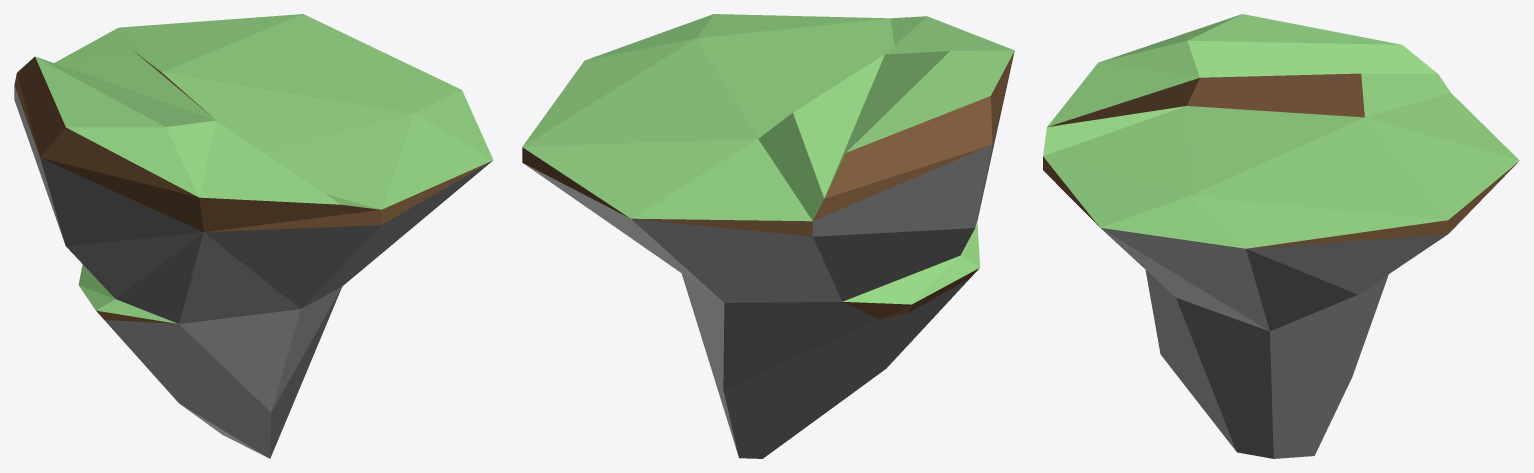
Rendered from Island3.fbx.
3 renders of one model, left to right at view 1: azimuth 30°, elevation 25°; view 2: azimuth 150°, elevation 25°; view 3: azimuth 270°, elevation 25°, orthographic. The views are drawn at different scales.
Visible parts, largest first — view 1: Cube; view 2: Cube; view 3: Cube.
Part boxes in pixels (<box>): Cube: <box>14,14,493,458</box>; Cube: <box>522,14,1014,458</box>; Cube: <box>1043,14,1519,458</box>.
Size of the model in its own units: 1525 by 1358 by 1662.
